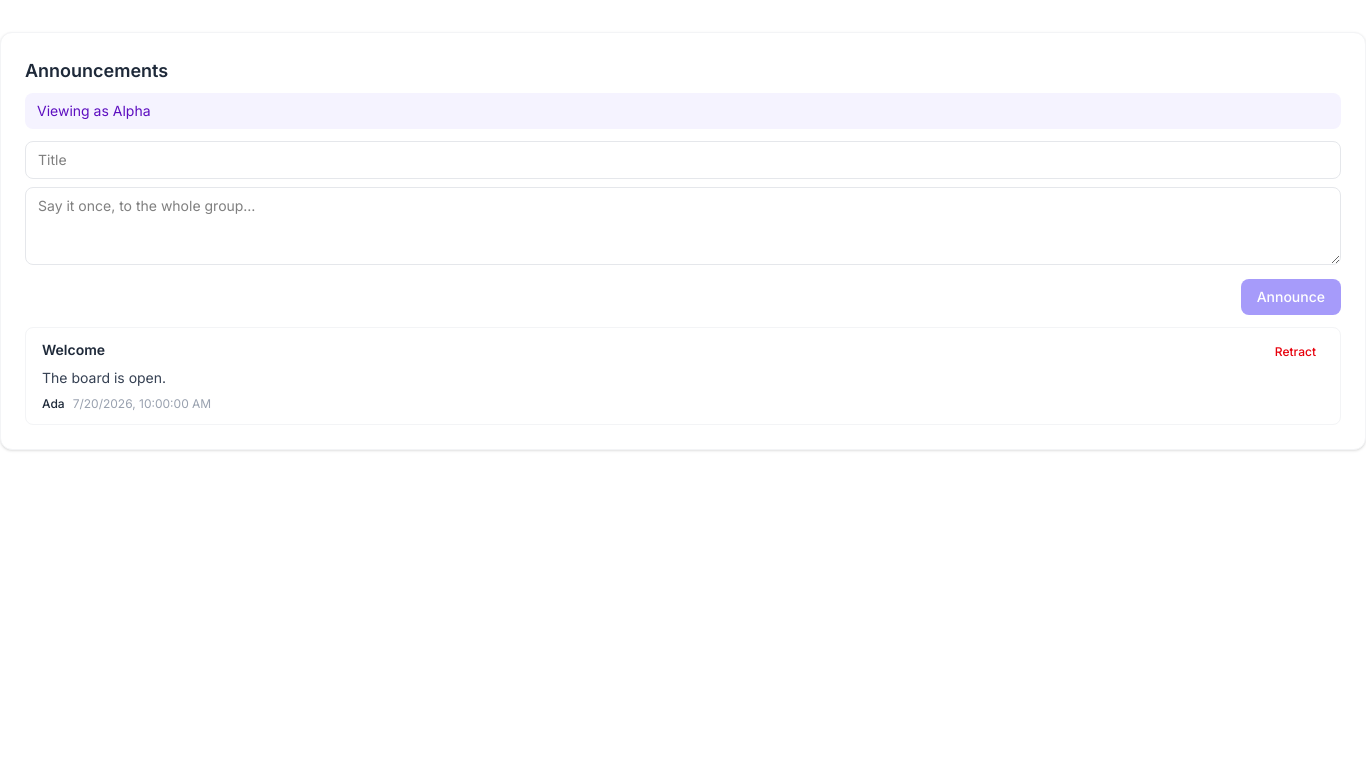
Test: GroupAnnouncementsSection — wielded render (FEAT-H048) › S2: a wielded retract confirms naming the wielding, then retracts with the acting group
expect the heading "Welcome" is shown: met, box top-left (42, 340), bottom-right (105, 360)
Click the button with test id "announcement-retract-a1": point(1295, 352) top-left (1267, 340), bottom-right (1324, 364)
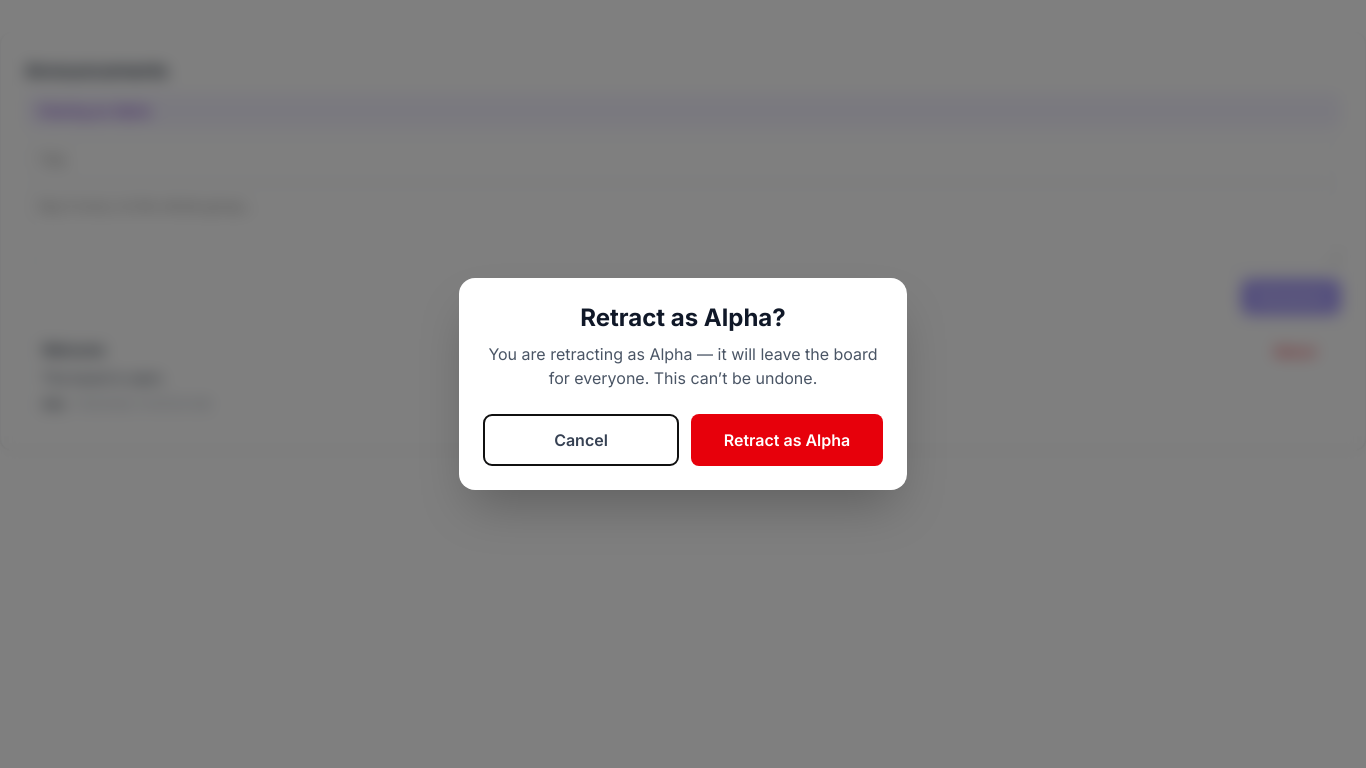
expect the text "You are retracting as Alpha" is shown: met, box top-left (488, 344), bottom-right (878, 388)
Click the button "Retract as Alpha": point(787, 440) top-left (691, 414), bottom-right (883, 466)
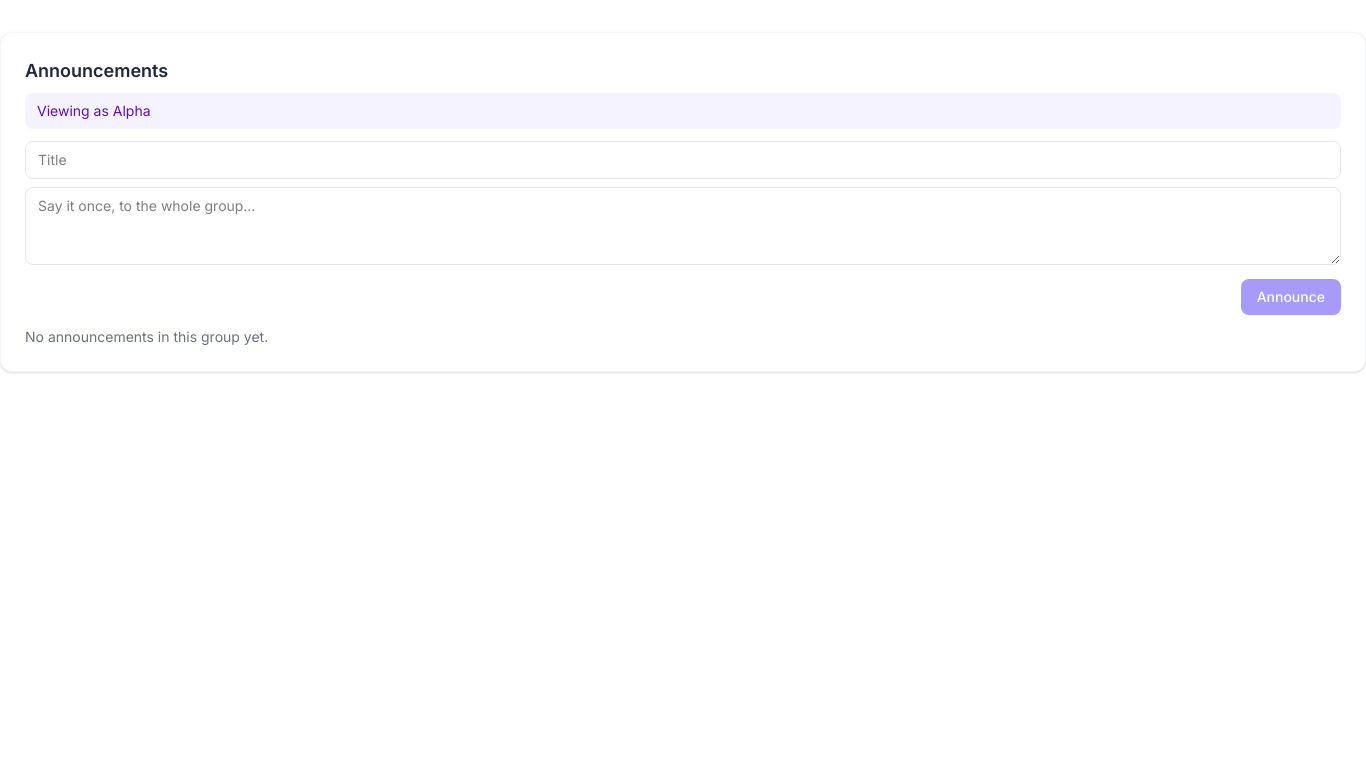
expect the heading "Welcome" is gone: met
